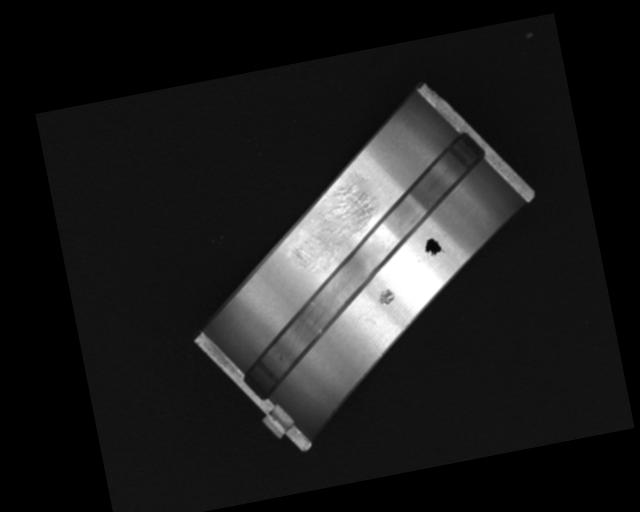blot: (422, 235, 446, 259)
bruise: (376, 287, 397, 308)
gap: (207, 131, 515, 401)
scratch: (281, 182, 387, 278)
